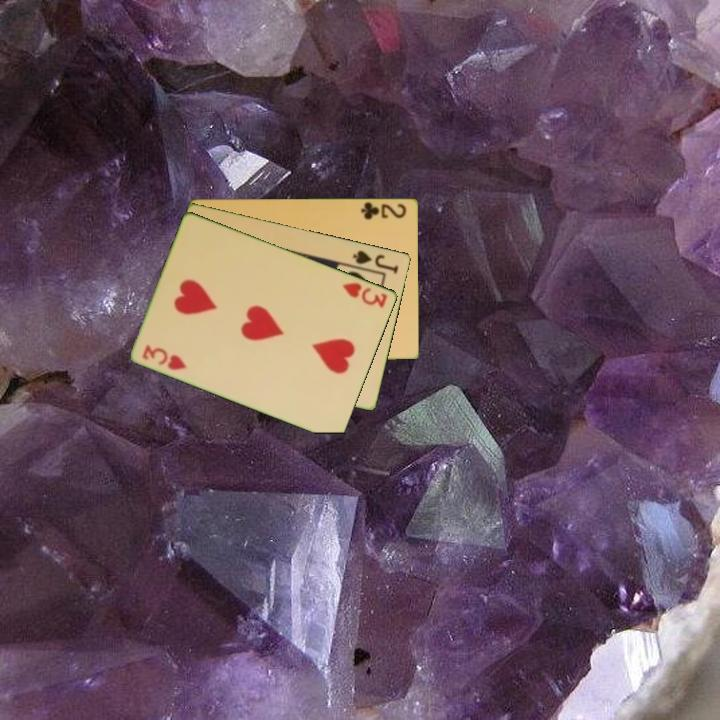2c: (358, 199, 409, 222)
3h: (139, 341, 190, 373), (339, 279, 391, 310)
Js: (349, 246, 402, 276)
